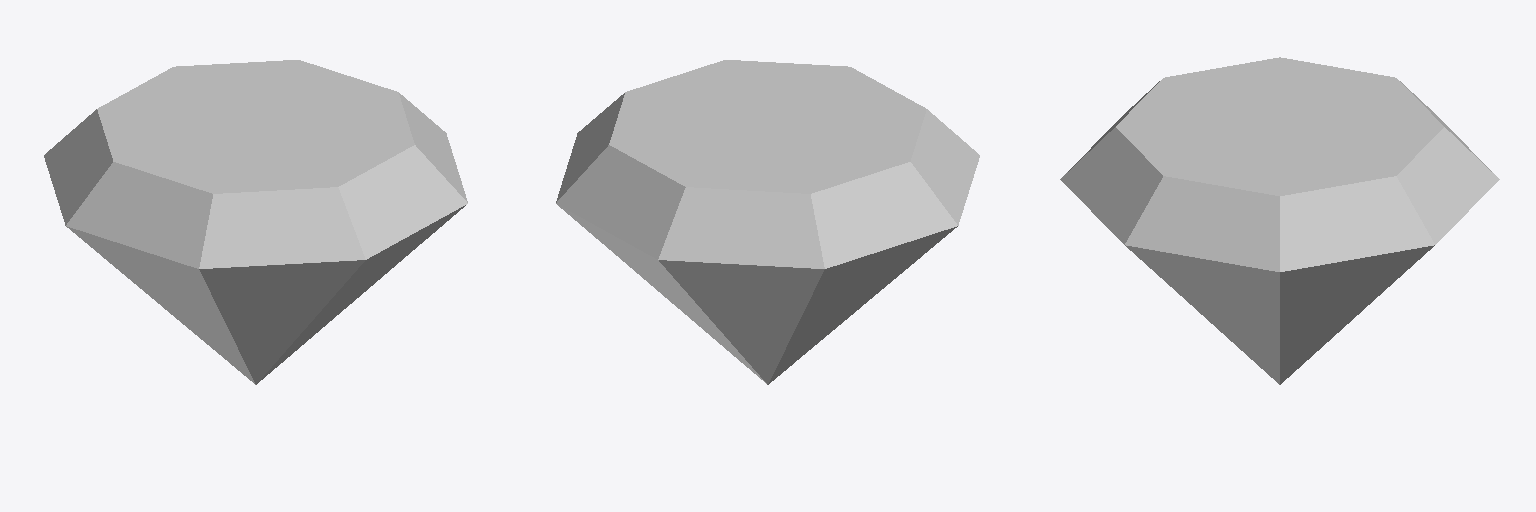
Rendered from gem3.obj.
3 renders of one model, left to right at view 1: azimuth 30°, elevation 25°; view 2: azimuth 150°, elevation 25°; view 3: azimuth 270°, elevation 25°, orthographic.
Visible parts, largest first — view 1: diamond.003_Sphere.003; view 2: diamond.003_Sphere.003; view 3: diamond.003_Sphere.003.
Boxes of the visible parts, x1,y1,x2,y2 form: diamond.003_Sphere.003: [44, 60, 467, 384]; diamond.003_Sphere.003: [556, 60, 979, 384]; diamond.003_Sphere.003: [1060, 57, 1499, 384].
Bounding box in the file's own units: 2.31 × 1.5 × 2.31.